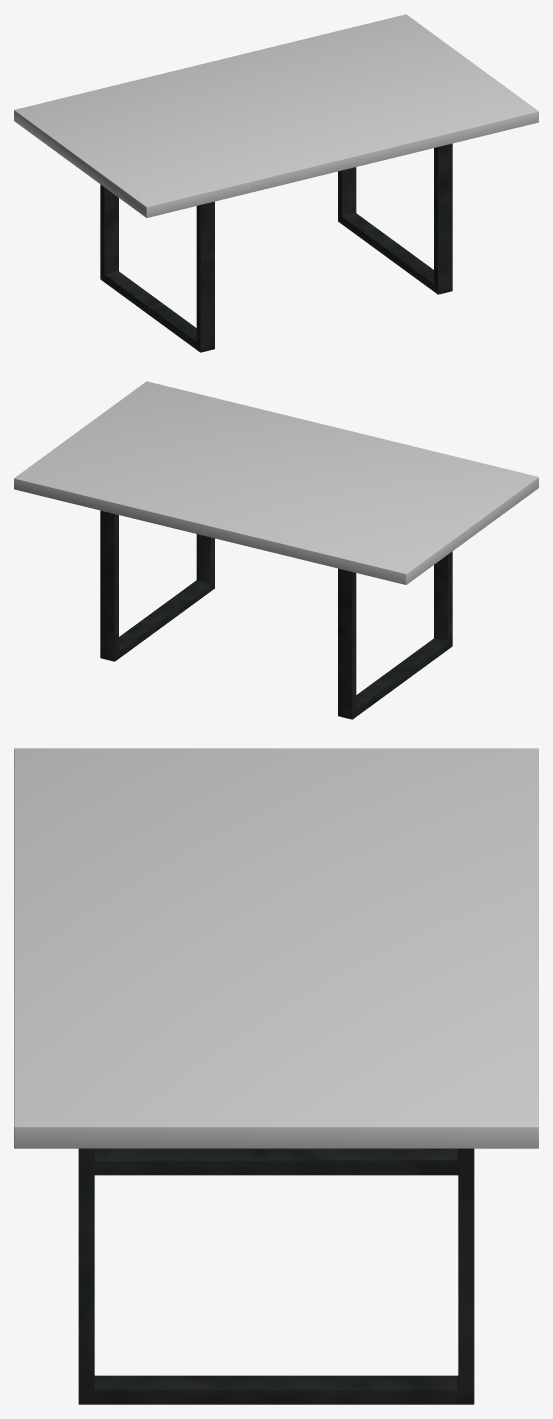
The model's file is Table.fbx.
The picture shows the model from 3 angles, top to bottom: view 1: azimuth 30°, elevation 25°; view 2: azimuth 150°, elevation 25°; view 3: azimuth 270°, elevation 25°; orthographic projection. The views are drawn at different scales.
Parts seen in each view (by area): view 1: Table; view 2: Table; view 3: Table.
Part boxes in pixels (x1,y1,x2,y2): Table: [14, 14, 538, 352]; Table: [14, 381, 538, 719]; Table: [14, 748, 538, 1404].
Bounding box in the file's own units: 170 × 72.32 × 99.52.
